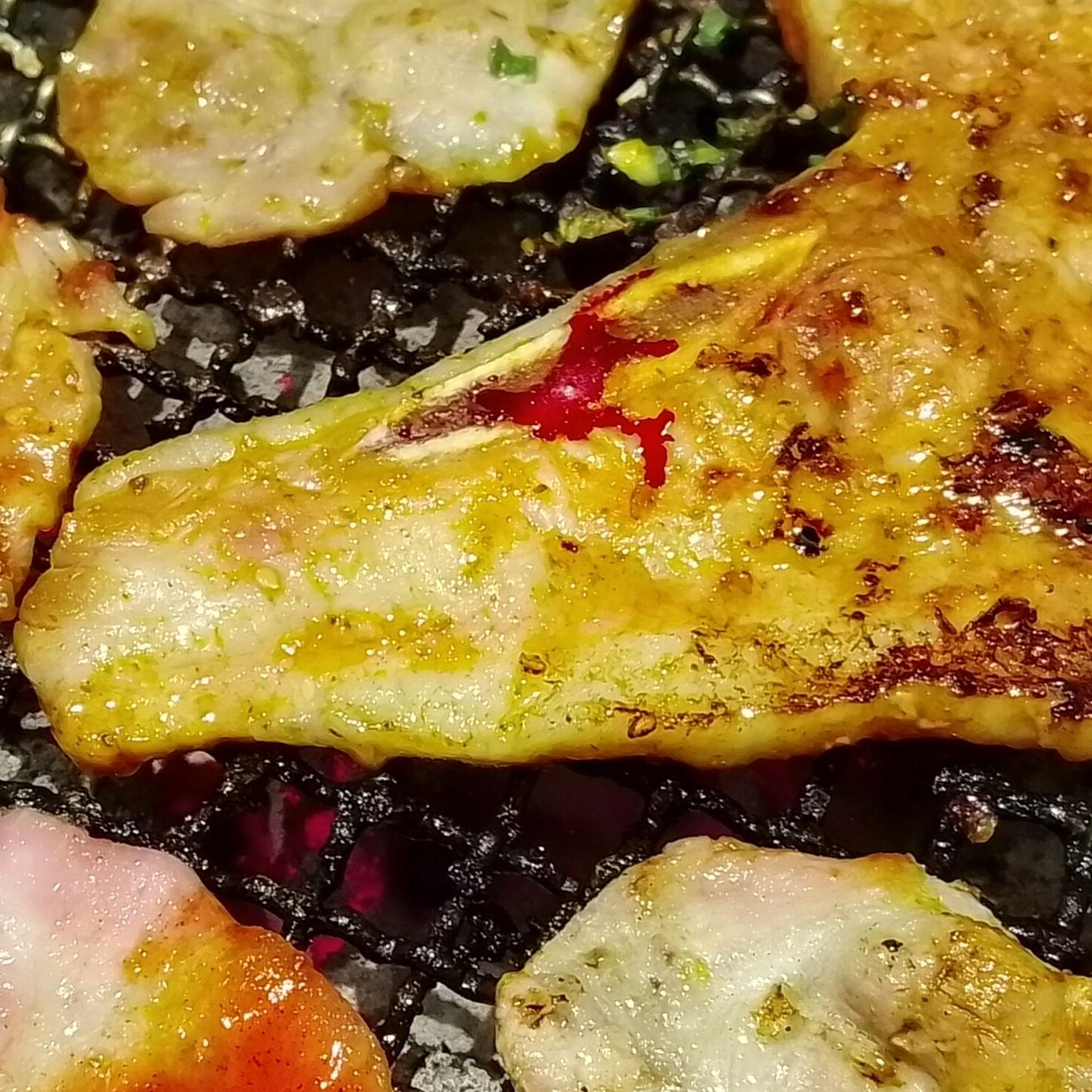Undercooked: (0, 811, 393, 1091)
Well-Cooked: (13, 0, 1091, 776), (494, 838, 1091, 1091), (56, 0, 614, 253), (0, 219, 148, 642)
